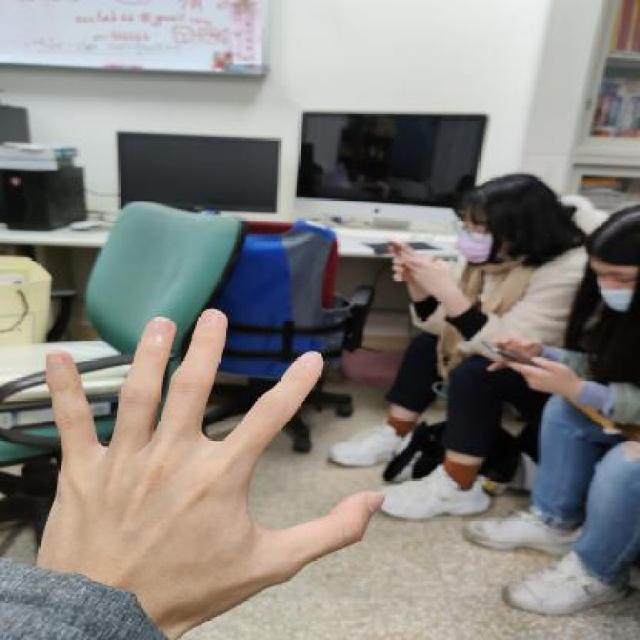bare_hand: (21, 295, 393, 640)
